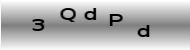3: (31, 18, 44, 32)
P: (108, 12, 124, 26)
Q: (58, 7, 77, 24)
d: (83, 6, 97, 21), (137, 24, 151, 38)
